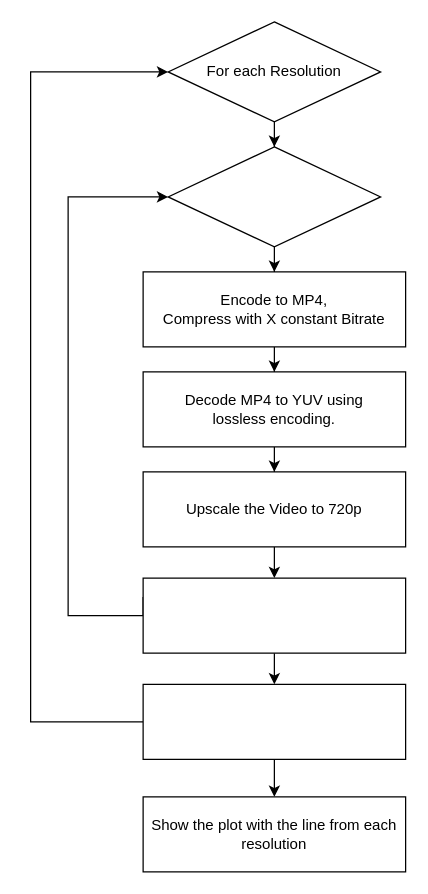
This 428x894 diagram has some shape labels left out. The centre of each missing label's shape, as x and y in pixels:
"Calculate the PSNR and SSIM when compared with the original video." belongs at (x=274, y=615).
"For each Bitrate X" belongs at (x=274, y=196).
"Plot the line of PSNR values against the bit-rate for this Resolution" belongs at (x=274, y=721).
